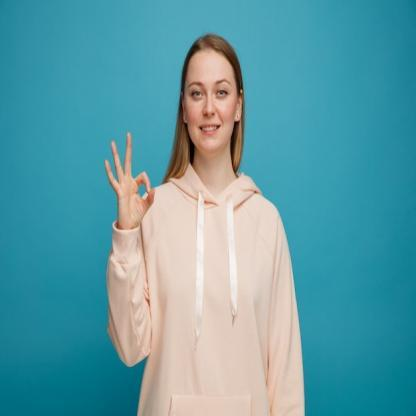ok: (104, 128, 156, 230)
